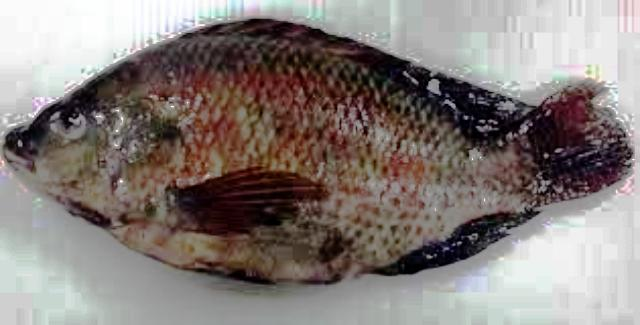Tilapia Lake Virus -TiLV-: (5, 19, 633, 281)
